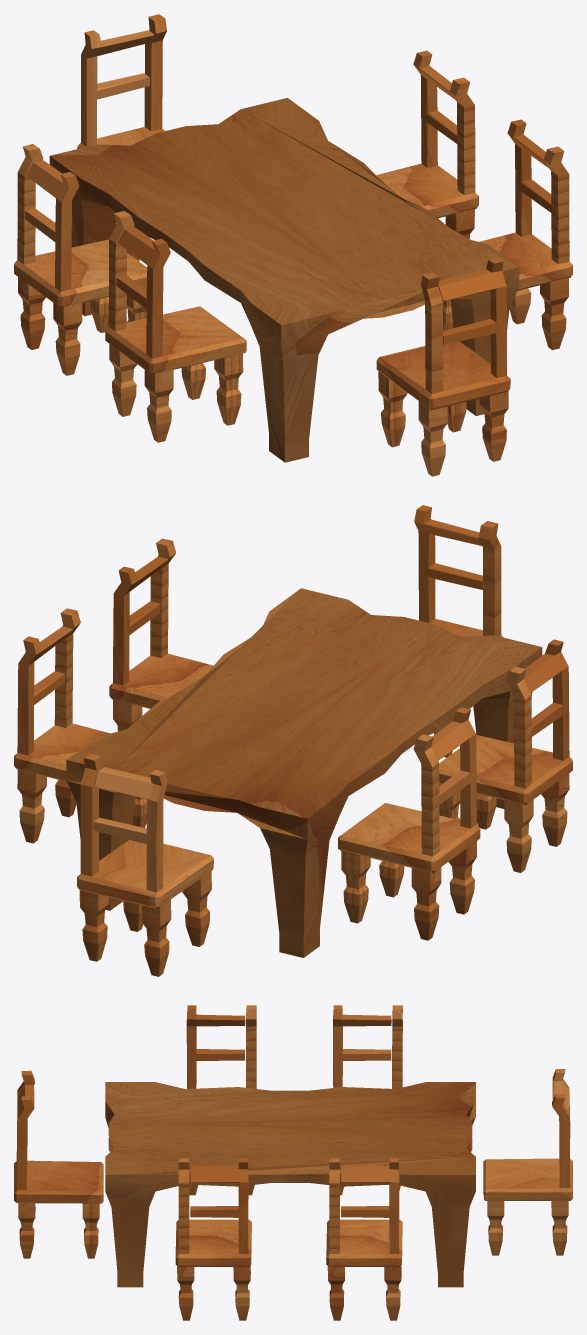
3 views of the same model, one above another, from view 1: azimuth 30°, elevation 25°; view 2: azimuth 150°, elevation 25°; view 3: azimuth 270°, elevation 25° (orthographic). The views are drawn at different scales.
Visible parts, largest first — view 1: Cube.005, Cube.002, Cube.001, Cube.007, Cube.003, Cube.006, Cube.004; view 2: Cube.005, Cube.004, Cube.007, Cube.001, Cube.006, Cube.003, Cube.002; view 3: Cube.005, Cube.003, Cube.006, Cube.002, Cube.004, Cube.001, Cube.007.
Boxes of the visible parts, bbox=[...] form: Cube.005: bbox=[49, 98, 519, 462]; Cube.002: bbox=[376, 257, 510, 476]; Cube.001: bbox=[105, 211, 246, 442]; Cube.007: bbox=[14, 144, 147, 375]; Cube.003: bbox=[442, 119, 572, 350]; Cube.006: bbox=[376, 50, 478, 238]; Cube.004: bbox=[77, 14, 166, 261]; Cube.005: bbox=[66, 588, 542, 957]; Cube.004: bbox=[77, 753, 213, 976]; Cube.007: bbox=[338, 707, 480, 940]; Cube.001: bbox=[439, 639, 572, 872]; Cube.006: bbox=[14, 608, 146, 843]; Cube.003: bbox=[109, 538, 213, 731]; Cube.002: bbox=[414, 505, 503, 757]; Cube.005: bbox=[105, 1082, 475, 1287]; Cube.003: bbox=[175, 1158, 251, 1320]; Cube.006: bbox=[326, 1158, 402, 1320]; Cube.002: bbox=[14, 1070, 103, 1258]; Cube.004: bbox=[483, 1069, 572, 1255]; Cube.001: bbox=[186, 1005, 256, 1195]; Cube.007: bbox=[333, 1005, 402, 1195].
Bounding box in the file's own units: 17.88 × 8.42 × 25.82.
2 materials, 2 textured.
